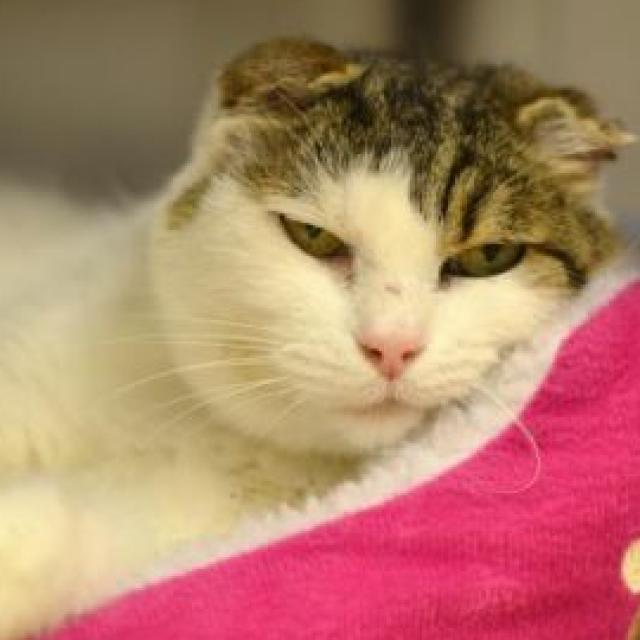Scottish Fold: (0, 31, 640, 640)
